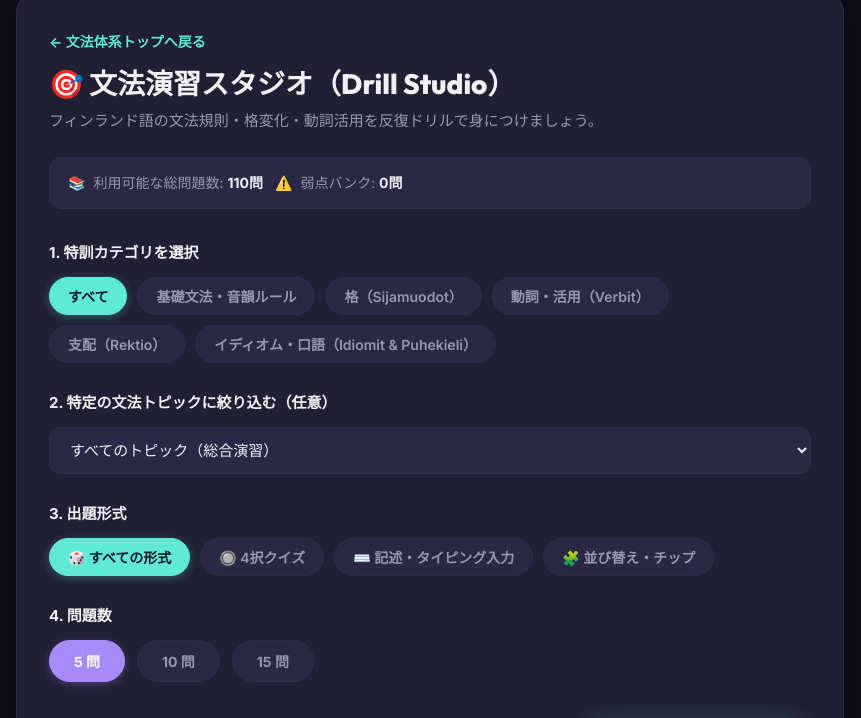
Test: GrammarPractice Component › supports typing answers and character helper buttons in typing questions
The image size is (861, 718).
Select typing format only
Click the button "⌨️ 記述・タイピング入力" at (434, 557), box [334, 538, 533, 576]
(page scrolled)
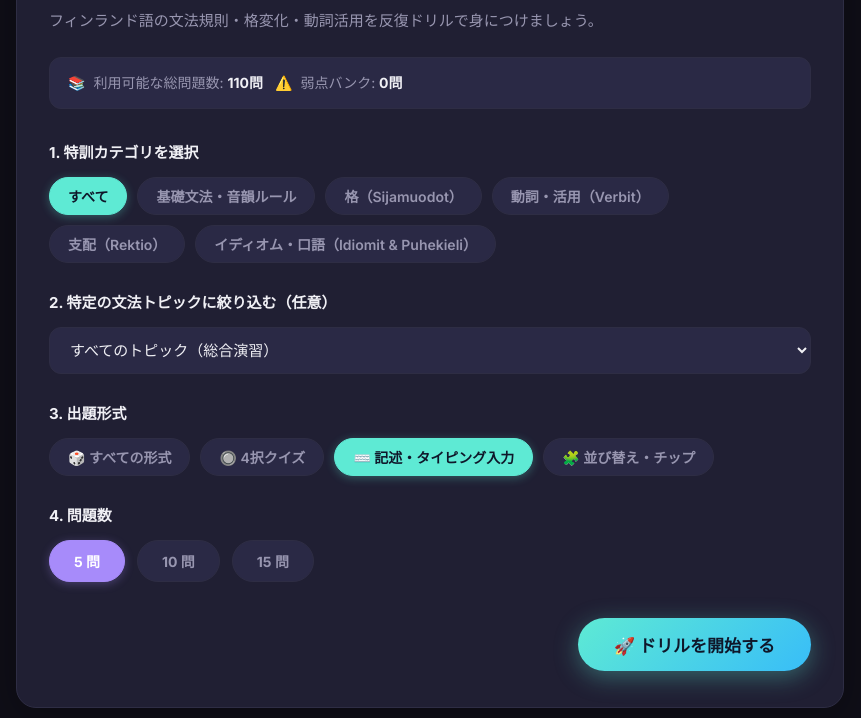
Click the button "🚀 ドリルを開始する" at (694, 644), box [578, 618, 811, 671]
(page scrolled)
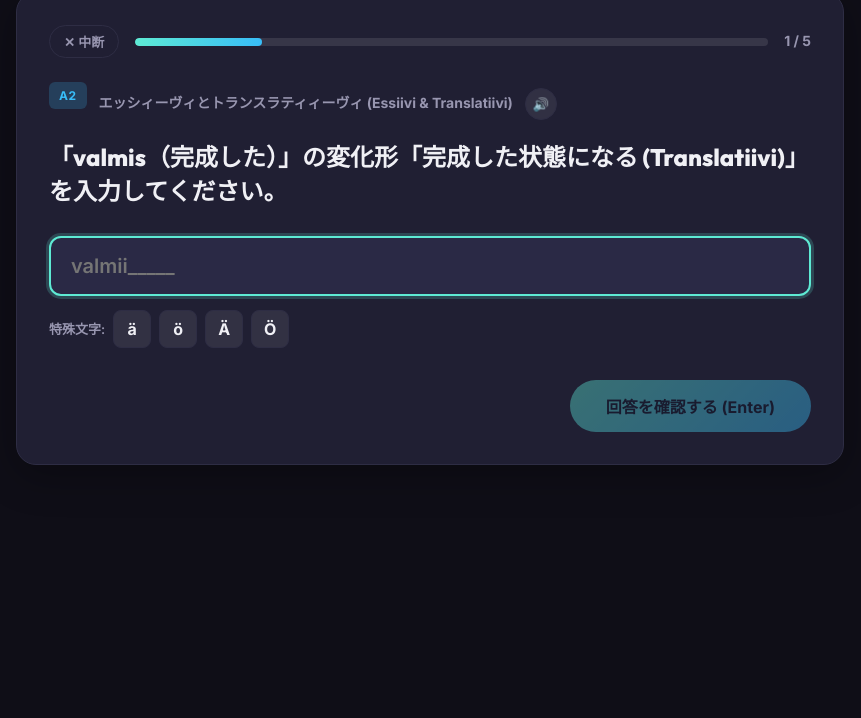
Click the button "ä" at (132, 329), box [113, 310, 151, 348]
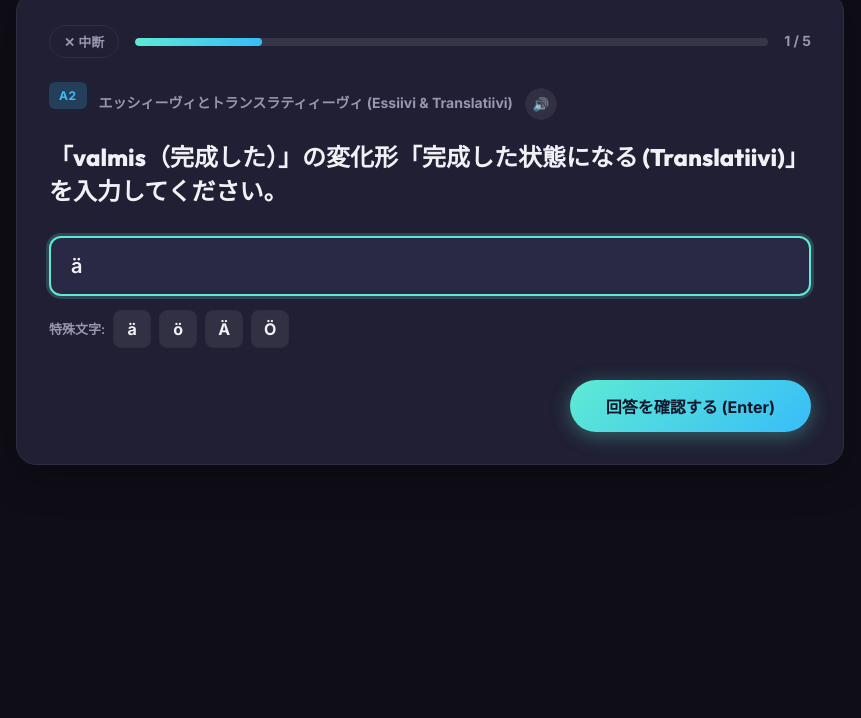
expect the field holds "ä": met, box [49, 236, 811, 296]
